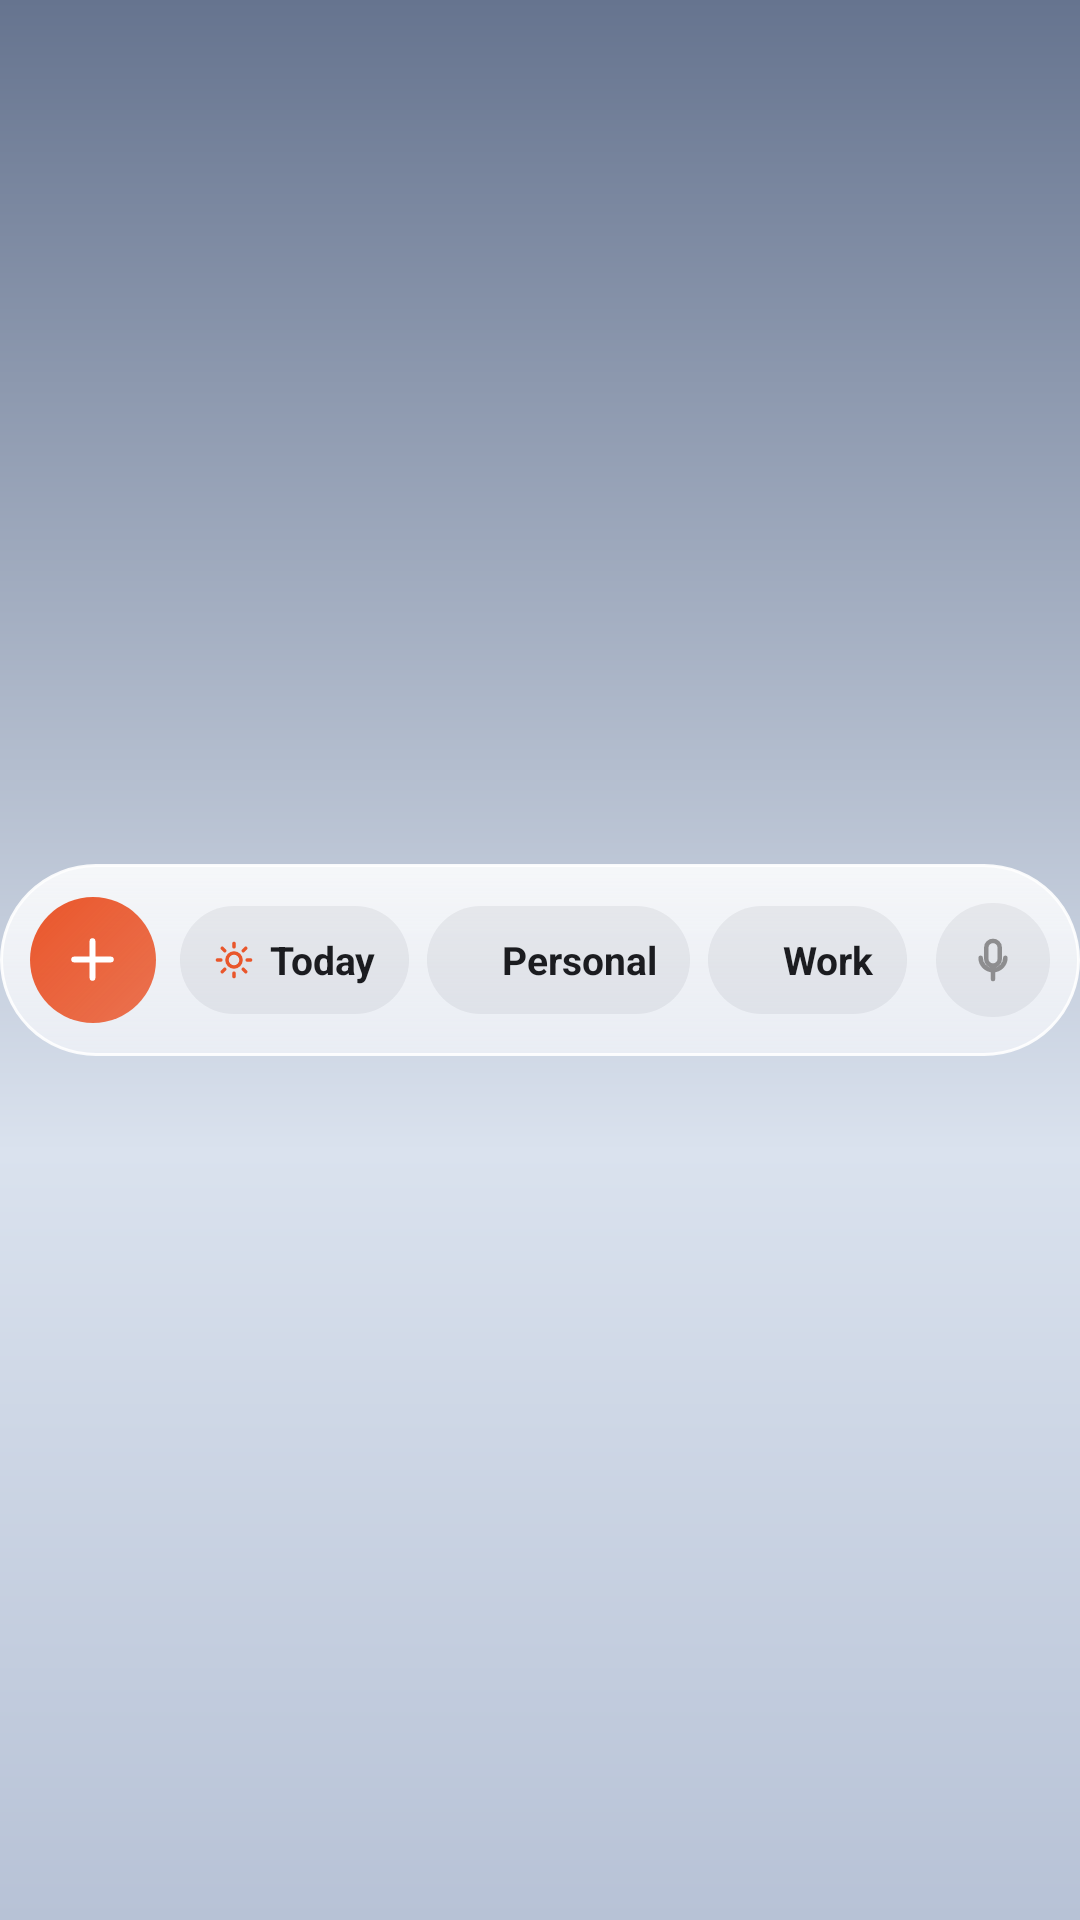

Screen size 1080 × 1920. Icon name, then its center in pixels as (x=x, y=y):
widget mic: (x=993, y=960)
widget plus: (x=92, y=959)
widget sun: (x=234, y=960)
